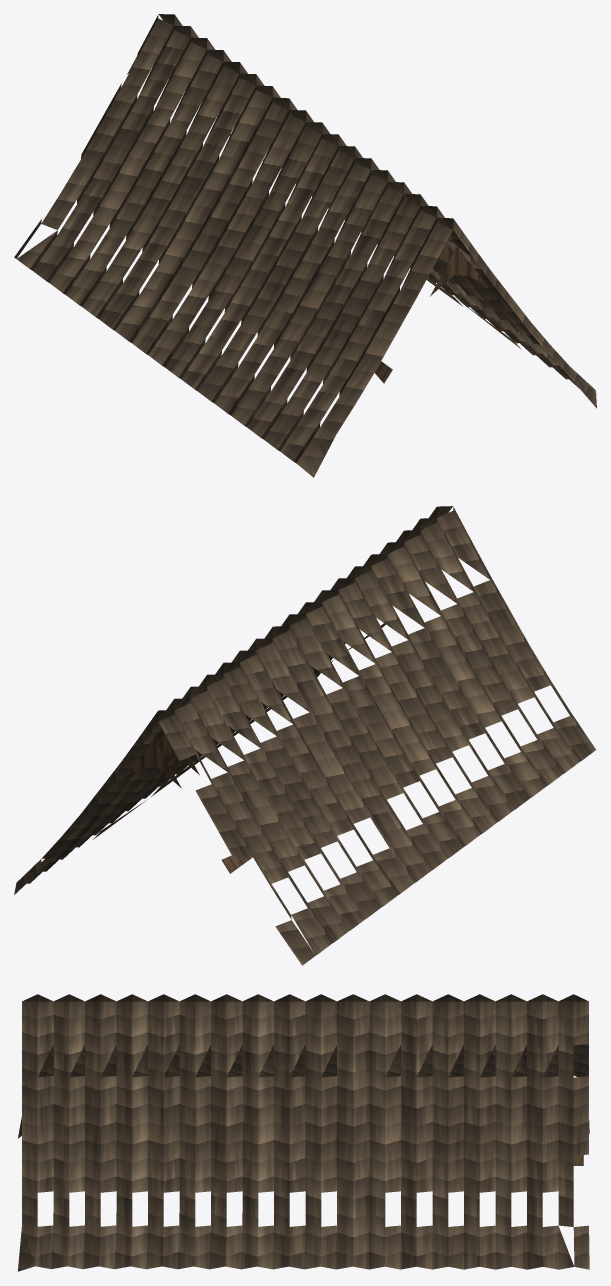
The model's file is Roof_Shingle_4x8_LOD1.gltf.
The picture shows the model from 3 angles, top to bottom: view 1: azimuth 30°, elevation 25°; view 2: azimuth 150°, elevation 25°; view 3: azimuth 270°, elevation 25°; orthographic projection. The views are drawn at different scales.
Visible parts, largest first — view 1: Roof_Shingle_4x8_LOD1; view 2: Roof_Shingle_4x8_LOD1; view 3: Roof_Shingle_4x8_LOD1.
Part boxes in pixels (left/top/right/bottom): Roof_Shingle_4x8_LOD1: left=14, top=14, right=596, bottom=477; Roof_Shingle_4x8_LOD1: left=14, top=506, right=596, bottom=965; Roof_Shingle_4x8_LOD1: left=18, top=994, right=589, bottom=1271.
Size of the model in its own units: 5.51 by 3.79 by 9.66.
2 materials, 2 textured.
